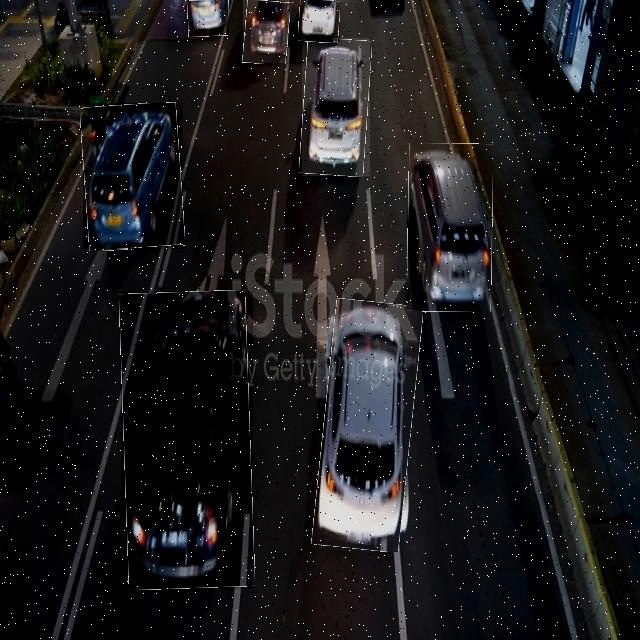Car: (121, 291, 253, 589), (318, 300, 417, 551), (83, 103, 183, 250), (407, 144, 493, 312), (302, 38, 370, 176), (243, 0, 289, 63), (299, 0, 340, 42), (187, 0, 229, 36)
